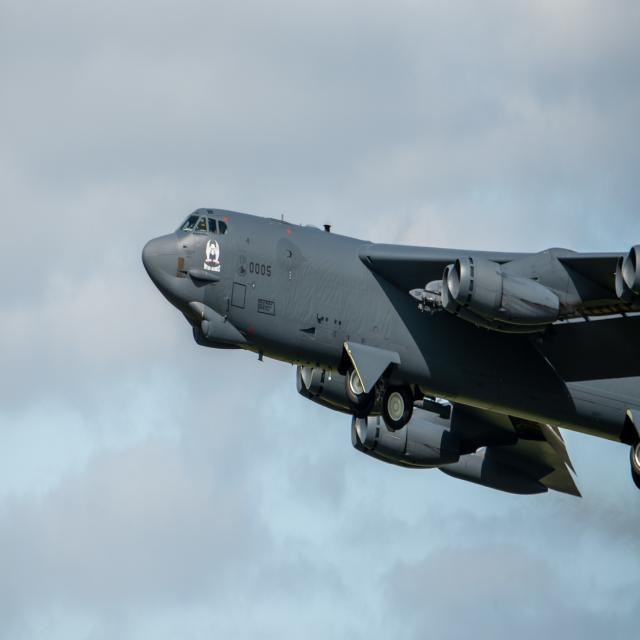MIL_Plane: (141, 303, 640, 401)
